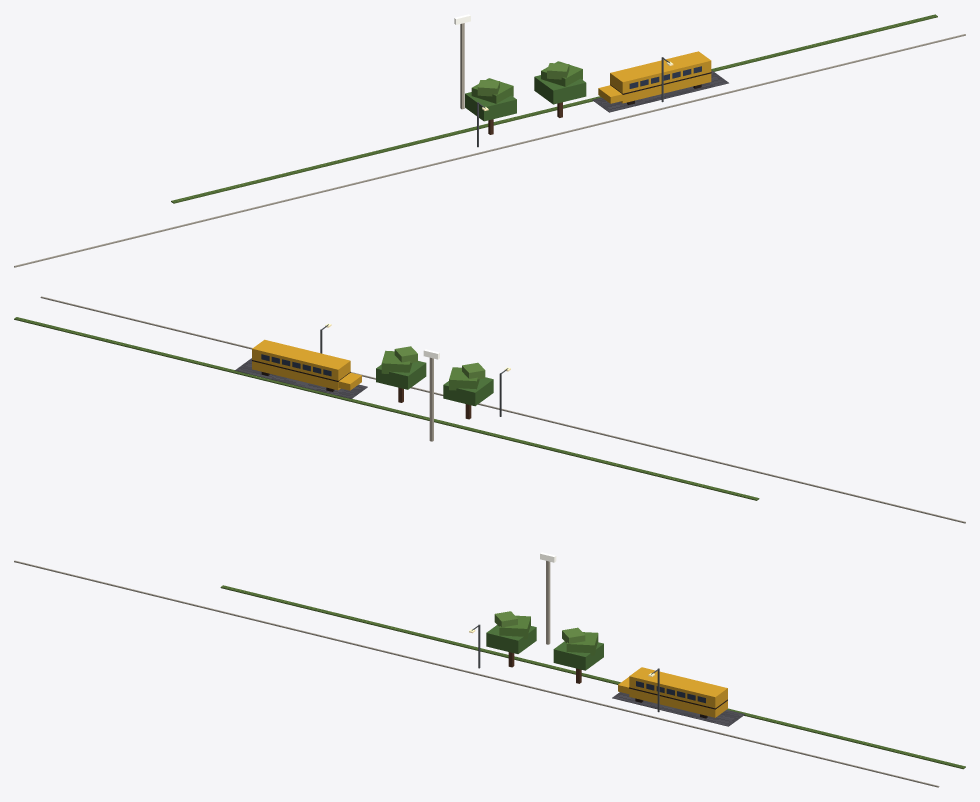
The model's file is structure.glb.
3 views of the same model, one above another, from view 1: azimuth 30°, elevation 25°; view 2: azimuth 150°, elevation 25°; view 3: azimuth 330°, elevation 25° (orthographic). The views are drawn at different scales.
Parts seen in each view (by area): view 1: Box19, Box1, Box2, Box14, Box40, Box10; view 2: Box1, Box19, Box2, Box40, Box10, Box14; view 3: Box19, Box1, Box2, Box40, Box10, Box14.
Boxes of the visible parts, left/top/right/bottom form: Box19: left=610, top=51, right=711, bottom=103; Box1: left=171, top=14, right=937, bottom=203; Box2: left=14, top=34, right=965, bottom=267; Box14: left=534, top=75, right=586, bottom=104; Box40: left=592, top=70, right=728, bottom=112; Box10: left=465, top=92, right=516, bottom=121; Box1: left=14, top=317, right=759, bottom=500; Box19: left=252, top=339, right=350, bottom=390; Box2: left=40, top=296, right=965, bottom=523; Box40: left=235, top=358, right=367, bottom=398; Box10: left=443, top=377, right=493, bottom=406; Box14: left=376, top=361, right=426, bottom=389; Box19: left=629, top=667, right=727, bottom=717; Box1: left=220, top=585, right=965, bottom=769; Box2: left=14, top=560, right=939, bottom=787; Box40: left=612, top=692, right=744, bottom=726; Box10: left=486, top=625, right=536, bottom=653; Box14: left=553, top=641, right=603, bottom=670.
Size of the model in its own units: 103 by 9.62 by 9.91.
Materials: 14 (2 with a texture image).
